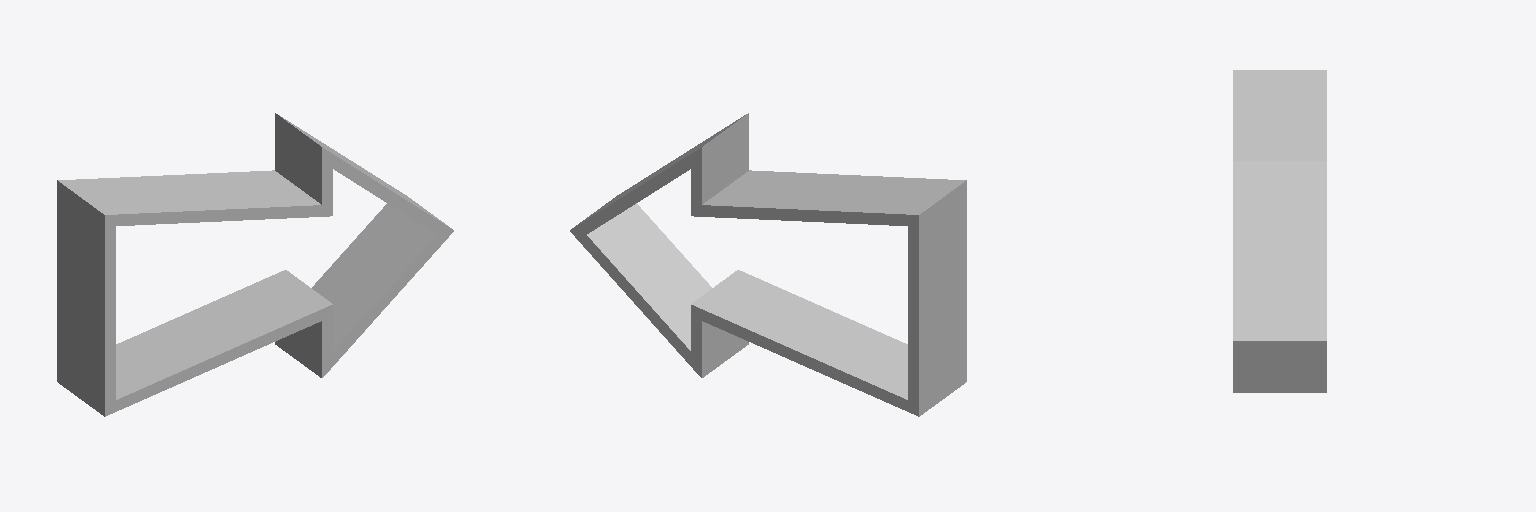
The model's file is Arrow_24.obj.
3 renders of one model, left to right at view 1: azimuth 30°, elevation 25°; view 2: azimuth 150°, elevation 25°; view 3: azimuth 270°, elevation 25°, orthographic.
Visible parts, largest first — view 1: Arrow_24; view 2: Arrow_24; view 3: Arrow_24.
Part boxes in pixels (bbox=[...]): Arrow_24: bbox=[57, 113, 453, 416]; Arrow_24: bbox=[570, 113, 966, 416]; Arrow_24: bbox=[1233, 70, 1326, 392].
Bounding box in the file's own units: 3.16 × 2 × 0.7423.